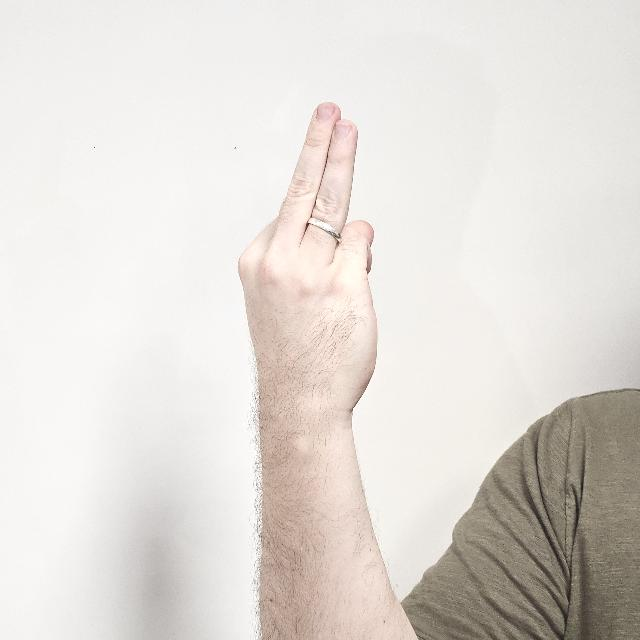R: (238, 93, 378, 444)
